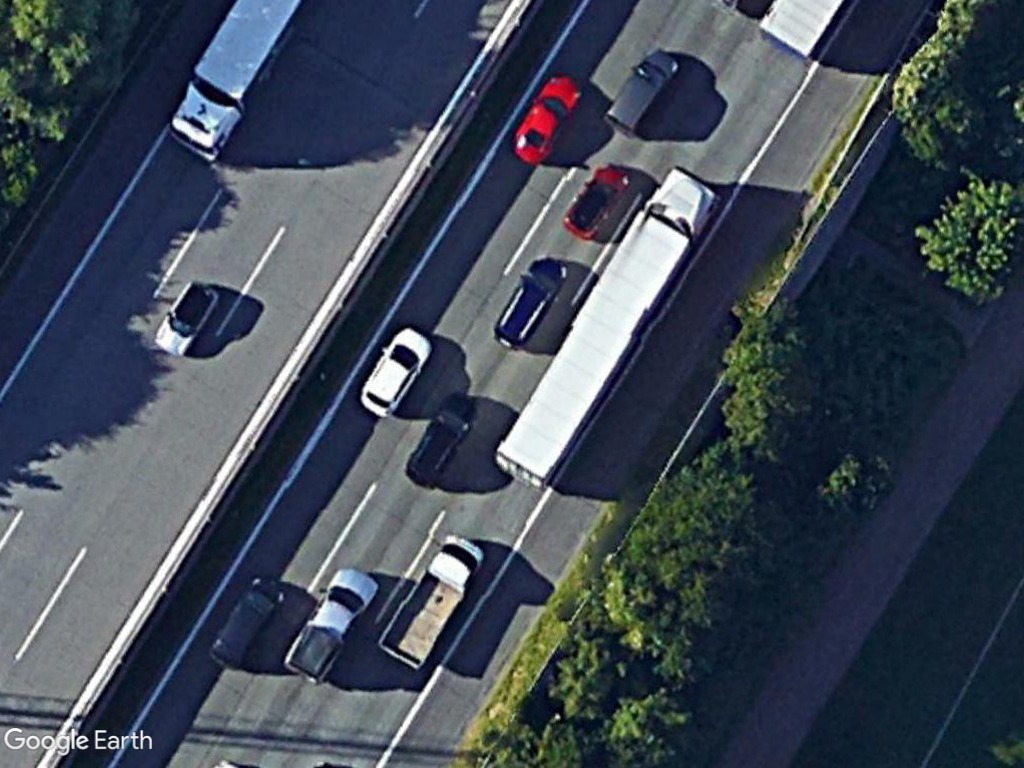car: (477, 251, 572, 360), (201, 565, 289, 678), (352, 321, 435, 424), (505, 67, 584, 169), (601, 43, 682, 140)
longvehicle: (489, 157, 720, 500)
truck: (372, 528, 486, 676)
